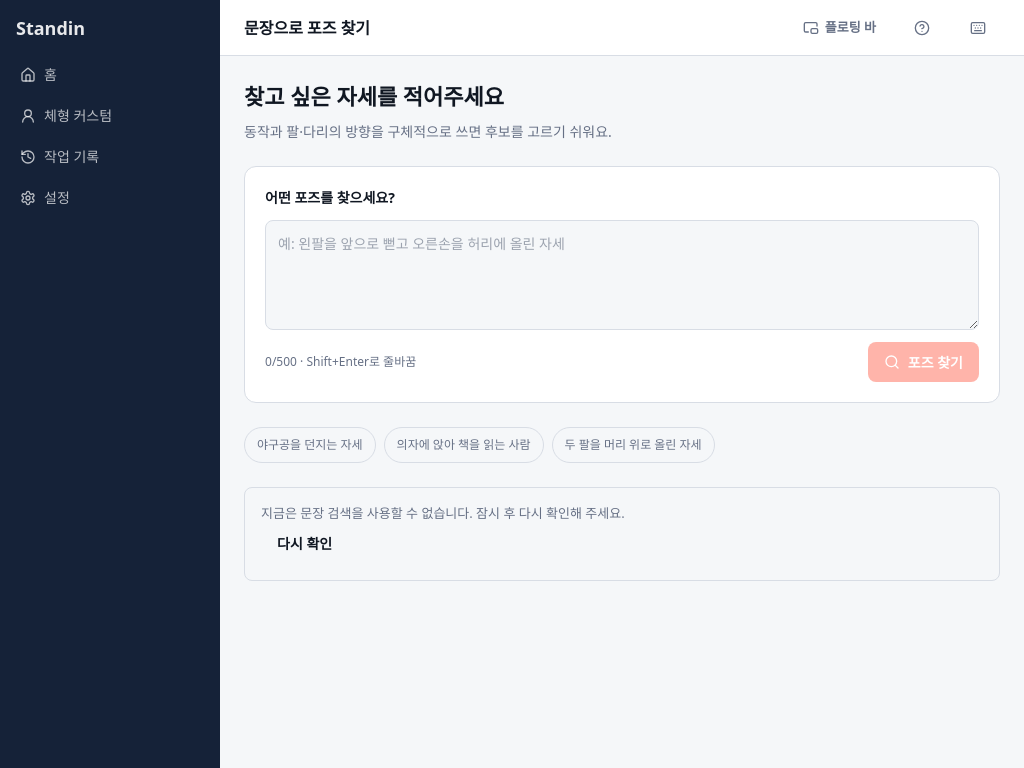
Scenario: unavailable service cannot submit and can be checked again
Check: the message "지금은 문장 검색을 사용할 수 없습니다. 잠시 후 다시 확인해 주세요. 다시 확인" is shown, box [244,487,1000,580]
Type "서 있는 자세" into the text box at (622, 275), box [265,220,979,330]
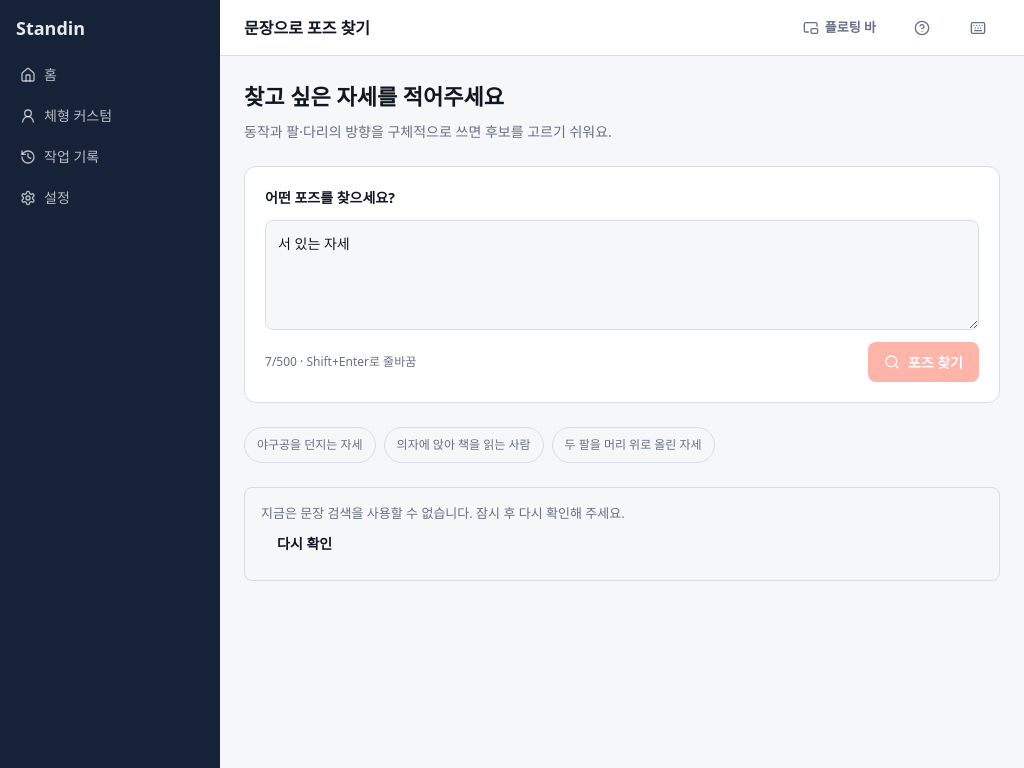
Check: the button "포즈 찾기" is disabled, box [868,342,979,382]
Click the button "다시 확인" at (305, 544), box [261,524,348,564]
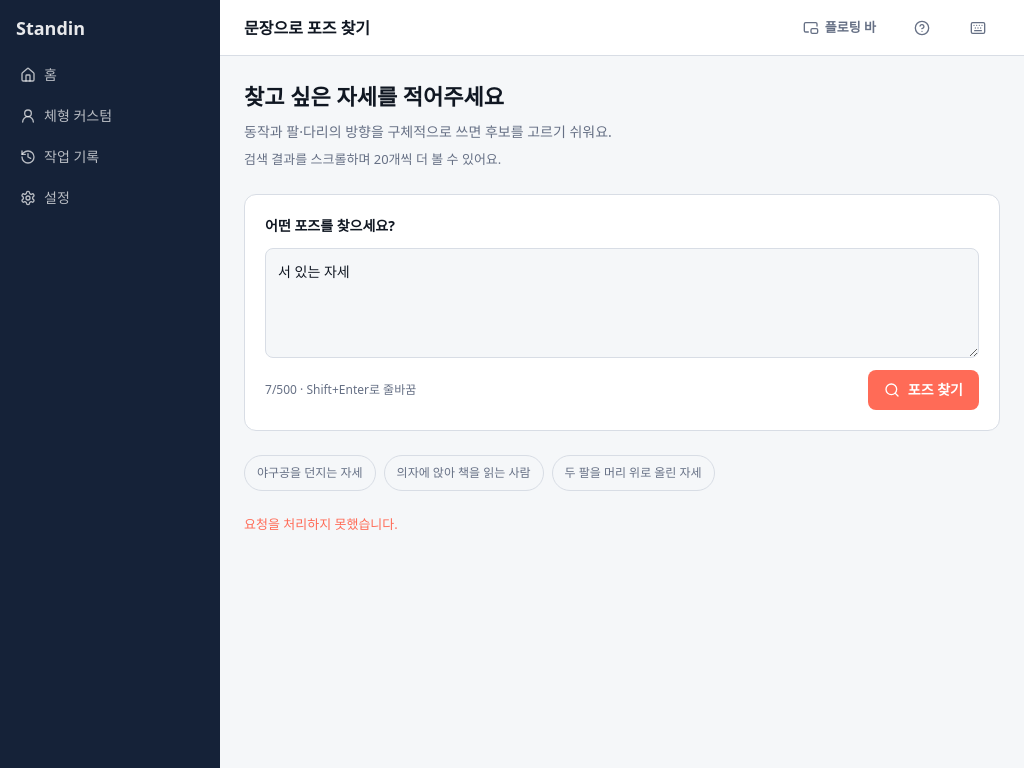
Check: the button "포즈 찾기" is enabled, box [868,370,979,410]
